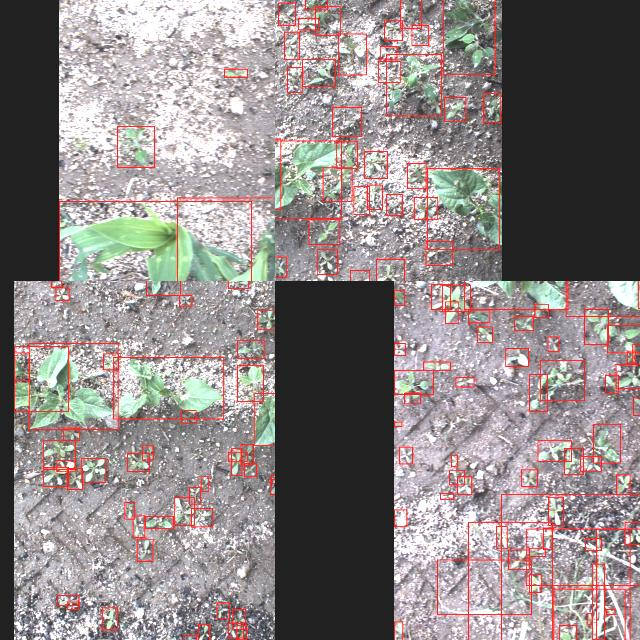crop: (58, 200, 251, 281), (176, 197, 275, 281), (28, 343, 118, 429), (112, 356, 224, 418), (426, 168, 499, 248), (275, 140, 340, 218), (13, 346, 68, 410), (463, 281, 567, 309), (565, 281, 640, 315), (253, 393, 275, 445), (237, 365, 263, 401)
weed: (500, 493, 640, 640), (467, 521, 552, 640), (525, 528, 640, 585), (437, 560, 531, 614), (443, 0, 495, 73), (596, 529, 630, 640), (553, 587, 624, 640), (386, 53, 442, 115), (540, 360, 584, 400), (116, 126, 154, 166), (338, 34, 367, 74), (592, 423, 620, 462), (322, 167, 352, 201), (606, 324, 640, 352), (393, 370, 432, 394), (42, 439, 74, 468), (592, 563, 604, 639), (332, 106, 362, 136), (302, 58, 334, 86), (584, 308, 608, 344), (308, 218, 339, 244), (440, 285, 470, 311), (314, 6, 340, 34), (537, 440, 571, 460), (529, 374, 547, 411), (376, 258, 404, 281), (426, 241, 452, 265), (364, 150, 386, 178), (615, 364, 640, 388), (81, 458, 105, 482), (316, 248, 338, 274), (335, 141, 357, 167), (400, 0, 421, 27), (174, 497, 194, 525), (236, 339, 264, 358), (414, 197, 438, 219), (444, 97, 466, 121), (406, 162, 426, 188), (42, 466, 68, 486), (484, 92, 501, 121), (378, 60, 400, 82), (430, 284, 450, 308), (564, 447, 582, 473), (145, 281, 180, 294), (353, 186, 369, 214), (504, 348, 528, 366), (548, 496, 562, 526), (286, 66, 302, 92), (508, 549, 528, 569), (127, 453, 149, 471), (190, 508, 212, 526), (284, 31, 298, 59), (14, 352, 28, 380), (366, 184, 382, 208), (384, 20, 402, 40), (257, 309, 275, 329), (278, 2, 294, 24), (101, 607, 117, 629), (136, 538, 152, 560), (624, 521, 640, 543), (386, 193, 402, 214), (144, 516, 172, 528), (412, 24, 428, 44), (66, 468, 82, 488), (456, 476, 472, 494), (616, 474, 630, 494), (580, 456, 600, 470), (444, 302, 458, 322), (521, 469, 537, 486), (132, 515, 144, 537), (467, 310, 489, 322), (232, 609, 245, 629), (231, 448, 241, 474), (240, 444, 253, 464), (227, 622, 243, 638), (102, 353, 118, 369), (476, 326, 492, 342), (558, 625, 575, 640), (398, 446, 412, 464), (422, 362, 450, 371), (604, 374, 618, 392), (514, 316, 532, 330), (298, 17, 318, 29), (448, 470, 464, 484), (275, 256, 286, 276), (350, 270, 370, 281), (56, 595, 78, 605), (496, 525, 506, 547), (542, 527, 552, 549), (188, 486, 200, 504), (528, 574, 540, 592), (217, 602, 230, 618), (63, 426, 79, 439), (379, 46, 396, 58), (394, 509, 406, 526), (305, 0, 327, 9), (534, 303, 548, 317), (197, 624, 209, 640), (180, 410, 196, 422), (585, 538, 601, 550), (56, 460, 74, 470), (228, 451, 246, 461), (455, 376, 473, 386), (224, 68, 246, 76), (403, 392, 419, 403), (244, 462, 256, 476), (54, 288, 68, 300), (178, 294, 192, 306), (124, 502, 134, 518), (632, 343, 640, 363), (394, 621, 402, 640), (227, 281, 248, 288), (236, 625, 246, 639), (142, 445, 152, 459), (394, 342, 404, 356), (548, 336, 558, 350), (393, 290, 403, 304), (529, 548, 545, 556), (633, 397, 640, 415), (626, 350, 636, 362), (200, 476, 208, 490), (66, 601, 78, 609), (450, 454, 458, 466), (269, 478, 275, 493), (183, 634, 196, 640), (440, 493, 452, 499), (50, 281, 61, 286), (587, 612, 591, 624), (606, 608, 614, 614), (393, 420, 401, 426), (271, 473, 275, 482)
